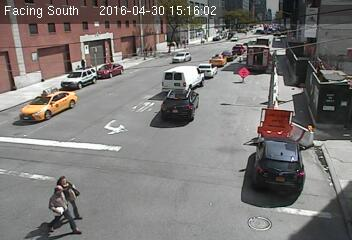neg: (248, 53, 275, 89), (172, 85, 198, 120), (180, 30, 195, 51)
pos: (41, 183, 75, 229), (51, 176, 81, 216)
